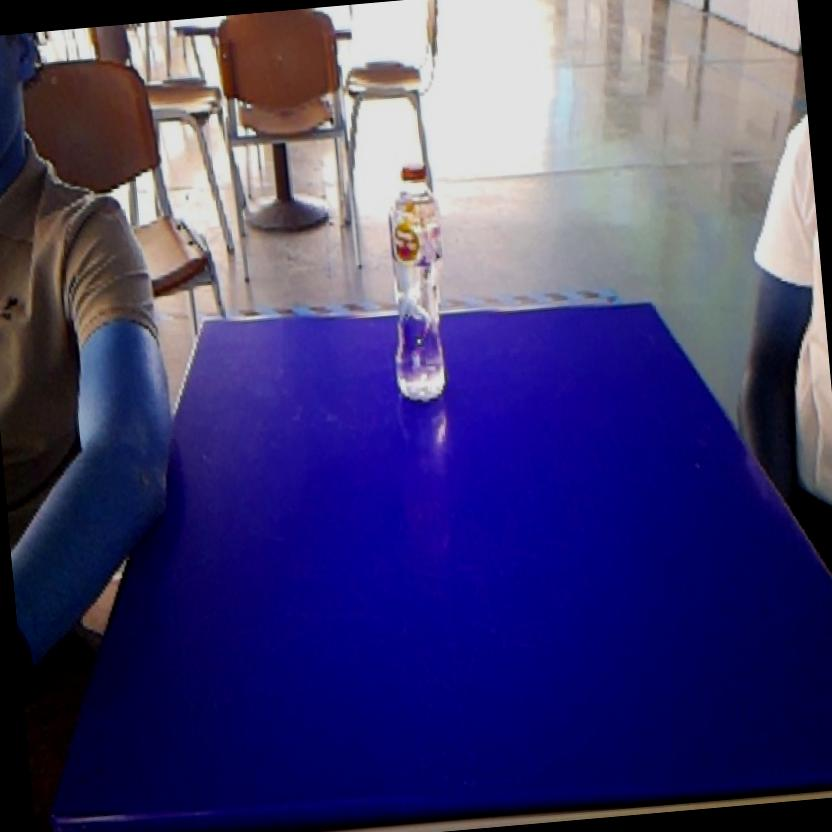good: (370, 149, 463, 417)
